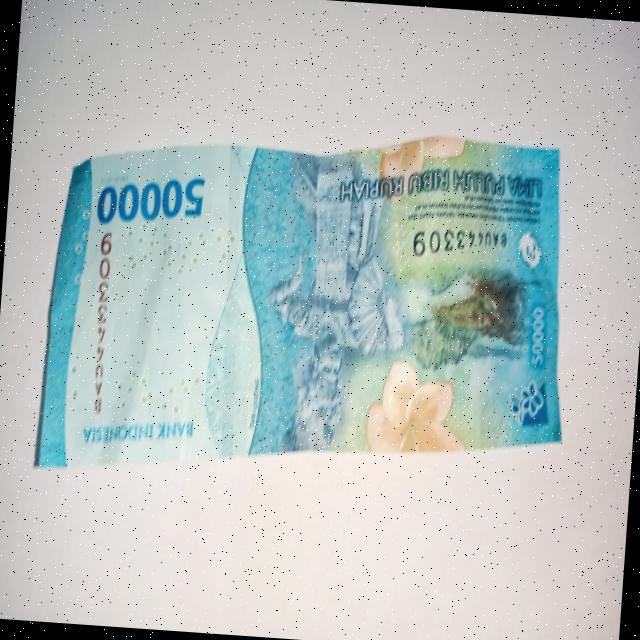50K: (26, 100, 591, 512)
